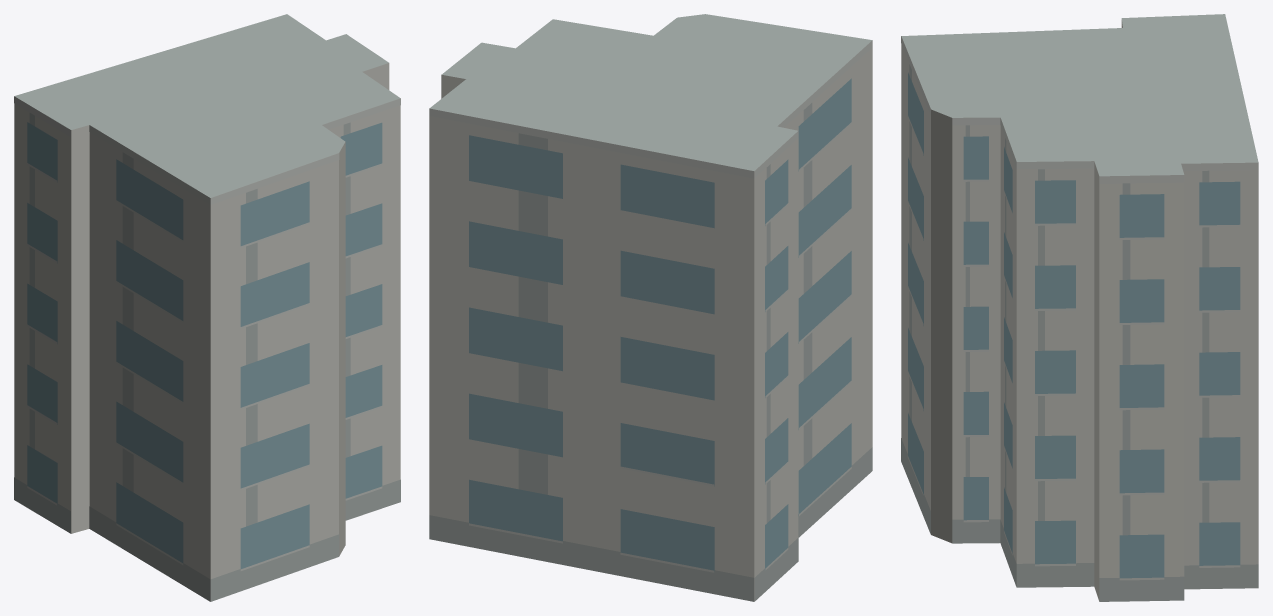
File: survey-upis-32723602.glb
3 renders of one model, left to right at view 1: azimuth 30°, elevation 25°; view 2: azimuth 150°, elevation 25°; view 3: azimuth 270°, elevation 25°, orthographic. The views are drawn at different scales.
Parts seen in each view (by area): view 1: survey-upis-32723602.tmp; view 2: survey-upis-32723602.tmp; view 3: survey-upis-32723602.tmp.
Boxes of the visible parts, x1,y1,x2,y2 form: survey-upis-32723602.tmp: [14, 14, 400, 601]; survey-upis-32723602.tmp: [429, 14, 872, 601]; survey-upis-32723602.tmp: [901, 14, 1258, 601].
Size of the model in its own units: 11.38 by 13.9 by 10.59.
